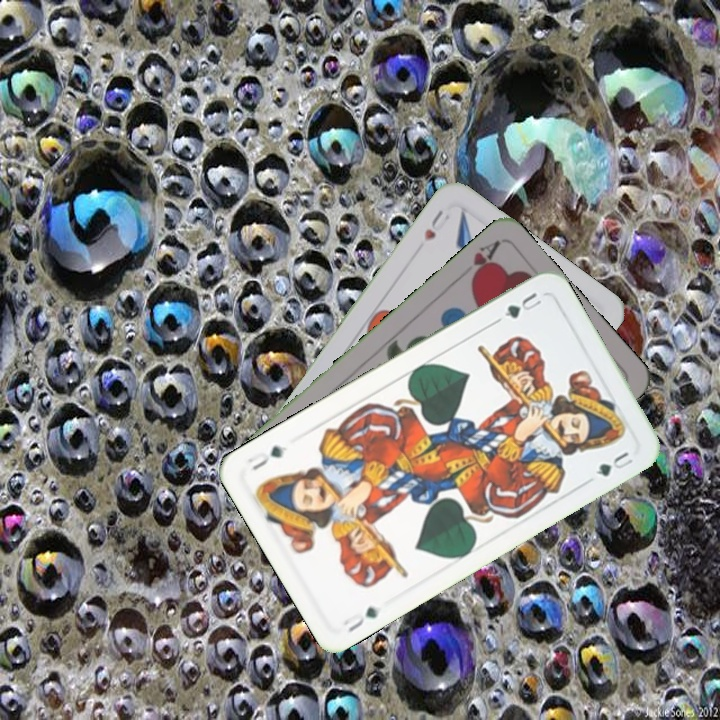GU: (339, 602, 385, 635), (500, 288, 545, 321)
HA: (466, 236, 503, 286)
HU: (420, 206, 453, 244)
